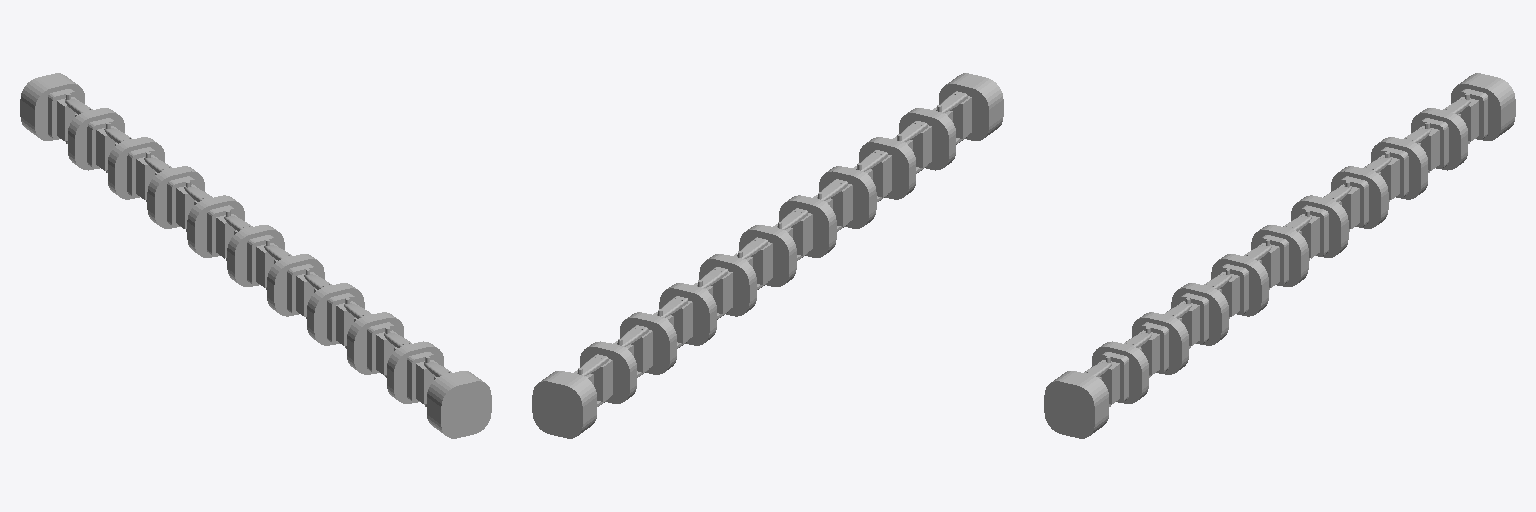
The robot description file, URDF, robot "model8":
<robot
  name="model8">
  <link
    name="base_link">
    <inertial>
      <origin
        xyz="0 0.0196398440124442 0.03"
        rpy="0 0 0" />
      <mass
        value="0.11815581103802" />
      <inertia
        ixx="9.51506167926554E-06"
        ixy="9.66785018978693E-21"
        ixz="2.28782652689305E-13"
        iyy="2.64453255573571E-06"
        iyz="8.47032947254294E-22"
        izz="6.87052912352988E-06" />
    </inertial>
    <visual>
      <origin
        xyz="0 0 0"
        rpy="0 0 0" />
      <geometry>
        <mesh
          filename="package://model8/meshes/base_link.STL" />
      </geometry>
      <material
        name="">
        <color
          rgba="0.752941176470588 0.752941176470588 0.752941176470588 1" />
      </material>
    </visual>
    <collision>
      <origin
        xyz="0 0 0"
        rpy="0 0 0" />
      <geometry>
        <mesh
          filename="package://model8/meshes/base_link.STL" />
      </geometry>
    </collision>
  </link>
  <link
    name="M1">
    <inertial>
      <origin
        xyz="-2.90113099377098E-08 0.0234550125674209 0.0300000000000001"
        rpy="0 0 0" />
      <mass
        value="0.0968618745655004" />
      <inertia
        ixx="1.57938620308465E-05"
        ixy="-3.85313324699336E-11"
        ixz="2.28782649902332E-13"
        iyy="2.64453255590243E-06"
        iyz="-2.3083938980612E-20"
        izz="1.31493294752775E-05" />
    </inertial>
    <visual>
      <origin
        xyz="0 0 0"
        rpy="0 0 0" />
      <geometry>
        <mesh
          filename="package://model8/meshes/M1.STL" />
      </geometry>
      <material
        name="">
        <color
          rgba="0.752941176470588 0.752941176470588 0.752941176470588 1" />
      </material>
    </visual>
    <collision>
      <origin
        xyz="0 0 0"
        rpy="0 0 0" />
      <geometry>
        <mesh
          filename="package://model8/meshes/M1.STL" />
      </geometry>
    </collision>
  </link>
  <joint
    name="J1"
    type="revolute">
    <origin
      xyz="0 0.080147 0"
      rpy="-5.445E-16 -7.3829E-16 3.6937E-16" />
    <parent
      link="base_link" />
    <child
      link="M1" />
    <axis
      xyz="0 0 1" />
    <limit
      lower="-1.571"
      upper="1.571"
      effort="0"
      velocity="0" />
  </joint>
  <link
    name="M2">
    <inertial>
      <origin
        xyz="-2.90113099515876E-08 0.0234550125674209 0.03"
        rpy="0 0 0" />
      <mass
        value="0.0968618745655004" />
      <inertia
        ixx="1.57938620308465E-05"
        ixy="-3.85313324650622E-11"
        ixz="2.28782651787835E-13"
        iyy="2.64453255590242E-06"
        iyz="-4.63773623227938E-20"
        izz="1.31493294752775E-05" />
    </inertial>
    <visual>
      <origin
        xyz="0 0 0"
        rpy="0 0 0" />
      <geometry>
        <mesh
          filename="package://model8/meshes/M2.STL" />
      </geometry>
      <material
        name="">
        <color
          rgba="0.752941176470588 0.752941176470588 0.752941176470588 1" />
      </material>
    </visual>
    <collision>
      <origin
        xyz="0 0 0"
        rpy="0 0 0" />
      <geometry>
        <mesh
          filename="package://model8/meshes/M2.STL" />
      </geometry>
    </collision>
  </link>
  <joint
    name="J2"
    type="revolute">
    <origin
      xyz="0 0.082647 0"
      rpy="0 4.4896E-16 -2.7711E-17" />
    <parent
      link="M1" />
    <child
      link="M2" />
    <axis
      xyz="0 0 1" />
    <limit
      lower="-1.571"
      upper="1.571"
      effort="0"
      velocity="0" />
  </joint>
  <link
    name="M3">
    <inertial>
      <origin
        xyz="-2.90113099515876E-08 0.0234550125674209 0.03"
        rpy="0 0 0" />
      <mass
        value="0.0968618745655004" />
      <inertia
        ixx="1.57938620308465E-05"
        ixy="-3.85313324719697E-11"
        ixz="2.28782654140448E-13"
        iyy="2.64453255590243E-06"
        iyz="-2.12836106898012E-20"
        izz="1.31493294752775E-05" />
    </inertial>
    <visual>
      <origin
        xyz="0 0 0"
        rpy="0 0 0" />
      <geometry>
        <mesh
          filename="package://model8/meshes/M3.STL" />
      </geometry>
      <material
        name="">
        <color
          rgba="0.752941176470588 0.752941176470588 0.752941176470588 1" />
      </material>
    </visual>
    <collision>
      <origin
        xyz="0 0 0"
        rpy="0 0 0" />
      <geometry>
        <mesh
          filename="package://model8/meshes/M3.STL" />
      </geometry>
    </collision>
  </link>
  <joint
    name="J3"
    type="revolute">
    <origin
      xyz="0 0.082647 0"
      rpy="9.0749E-17 -2.4669E-16 -9.0749E-17" />
    <parent
      link="M2" />
    <child
      link="M3" />
    <axis
      xyz="0 0 1" />
    <limit
      lower="-1.571"
      upper="1.571"
      effort="0"
      velocity="0" />
  </joint>
  <link
    name="M4">
    <inertial>
      <origin
        xyz="-2.90113099238321E-08 0.023455012567421 0.03"
        rpy="0 0 0" />
      <mass
        value="0.0968618745655006" />
      <inertia
        ixx="1.57938620308465E-05"
        ixy="-3.853133246773E-11"
        ixz="2.28782654646005E-13"
        iyy="2.64453255590244E-06"
        iyz="-4.250237930801E-22"
        izz="1.31493294752775E-05" />
    </inertial>
    <visual>
      <origin
        xyz="0 0 0"
        rpy="0 0 0" />
      <geometry>
        <mesh
          filename="package://model8/meshes/M4.STL" />
      </geometry>
      <material
        name="">
        <color
          rgba="0.752941176470588 0.752941176470588 0.752941176470588 1" />
      </material>
    </visual>
    <collision>
      <origin
        xyz="0 0 0"
        rpy="0 0 0" />
      <geometry>
        <mesh
          filename="package://model8/meshes/M4.STL" />
      </geometry>
    </collision>
  </link>
  <joint
    name="J4"
    type="revolute">
    <origin
      xyz="0 0.082647 0"
      rpy="9.0749E-17 -2.4669E-16 -9.0749E-17" />
    <parent
      link="M3" />
    <child
      link="M4" />
    <axis
      xyz="0 0 1" />
    <limit
      lower="-1.571"
      upper="1.571"
      effort="0"
      velocity="0" />
  </joint>
  <link
    name="M5">
    <inertial>
      <origin
        xyz="-2.90113098960765E-08 0.023455012567421 0.03"
        rpy="0 0 0" />
      <mass
        value="0.0968618745655006" />
      <inertia
        ixx="1.57938620308465E-05"
        ixy="-3.85313324751812E-11"
        ixz="2.28782651866568E-13"
        iyy="2.64453255590243E-06"
        iyz="-1.23276250185249E-21"
        izz="1.31493294752775E-05" />
    </inertial>
    <visual>
      <origin
        xyz="0 0 0"
        rpy="0 0 0" />
      <geometry>
        <mesh
          filename="package://model8/meshes/M5.STL" />
      </geometry>
      <material
        name="">
        <color
          rgba="0.752941176470588 0.752941176470588 0.752941176470588 1" />
      </material>
    </visual>
    <collision>
      <origin
        xyz="0 0 0"
        rpy="0 0 0" />
      <geometry>
        <mesh
          filename="package://model8/meshes/M5.STL" />
      </geometry>
    </collision>
  </link>
  <joint
    name="J5"
    type="revolute">
    <origin
      xyz="0 0.082647 0"
      rpy="8.4372E-17 -3.5974E-16 8.4372E-17" />
    <parent
      link="M4" />
    <child
      link="M5" />
    <axis
      xyz="0 0 1" />
    <limit
      lower="-1.571"
      upper="1.571"
      effort="0"
      velocity="0" />
  </joint>
  <link
    name="M6">
    <inertial>
      <origin
        xyz="-2.90113099238321E-08 0.0234550125674209 0.0299999999999998"
        rpy="0 0 0" />
      <mass
        value="0.0968618745655006" />
      <inertia
        ixx="1.57938620308465E-05"
        ixy="-3.85313324809194E-11"
        ixz="2.28782653052666E-13"
        iyy="2.64453255590243E-06"
        iyz="-3.09181815818711E-20"
        izz="1.31493294752776E-05" />
    </inertial>
    <visual>
      <origin
        xyz="0 0 0"
        rpy="0 0 0" />
      <geometry>
        <mesh
          filename="package://model8/meshes/M6.STL" />
      </geometry>
      <material
        name="">
        <color
          rgba="0.752941176470588 0.752941176470588 0.752941176470588 1" />
      </material>
    </visual>
    <collision>
      <origin
        xyz="0 0 0"
        rpy="0 0 0" />
      <geometry>
        <mesh
          filename="package://model8/meshes/M6.STL" />
      </geometry>
    </collision>
  </link>
  <joint
    name="J6"
    type="revolute">
    <origin
      xyz="0 0.082647 0"
      rpy="-8.4372E-17 -3.7505E-16 -8.4372E-17" />
    <parent
      link="M5" />
    <child
      link="M6" />
    <axis
      xyz="0 0 1" />
    <limit
      lower="-1.571"
      upper="1.571"
      effort="0"
      velocity="0" />
  </joint>
  <link
    name="M7">
    <inertial>
      <origin
        xyz="-2.90113099238321E-08 0.0234550125674209 0.0299999999999998"
        rpy="0 0 0" />
      <mass
        value="0.0968618745655006" />
      <inertia
        ixx="1.57938620308466E-05"
        ixy="-3.85313324646932E-11"
        ixz="2.28782652934824E-13"
        iyy="2.64453255590243E-06"
        iyz="-1.98004468484315E-20"
        izz="1.31493294752776E-05" />
    </inertial>
    <visual>
      <origin
        xyz="0 0 0"
        rpy="0 0 0" />
      <geometry>
        <mesh
          filename="package://model8/meshes/M7.STL" />
      </geometry>
      <material
        name="">
        <color
          rgba="0.752941176470588 0.752941176470588 0.752941176470588 1" />
      </material>
    </visual>
    <collision>
      <origin
        xyz="0 0 0"
        rpy="0 0 0" />
      <geometry>
        <mesh
          filename="package://model8/meshes/M7.STL" />
      </geometry>
    </collision>
  </link>
  <joint
    name="J7"
    type="revolute">
    <origin
      xyz="0 0.082647 0"
      rpy="9.0749E-17 -9.4058E-16 -6.3039E-17" />
    <parent
      link="M6" />
    <child
      link="M7" />
    <axis
      xyz="0 0 1" />
    <limit
      lower="-1.571"
      upper="1.571"
      effort="0"
      velocity="0" />
  </joint>
  <link
    name="M8">
    <inertial>
      <origin
        xyz="-2.90113098960765E-08 0.0234550125674209 0.0299999999999998"
        rpy="0 0 0" />
      <mass
        value="0.0968618745655005" />
      <inertia
        ixx="1.57938620308465E-05"
        ixy="-3.85313324738181E-11"
        ixz="2.28782652813436E-13"
        iyy="2.64453255590242E-06"
        iyz="-2.3082325678601E-20"
        izz="1.31493294752775E-05" />
    </inertial>
    <visual>
      <origin
        xyz="0 0 0"
        rpy="0 0 0" />
      <geometry>
        <mesh
          filename="package://model8/meshes/M8.STL" />
      </geometry>
      <material
        name="">
        <color
          rgba="0.752941176470588 0.752941176470588 0.752941176470588 1" />
      </material>
    </visual>
    <collision>
      <origin
        xyz="0 0 0"
        rpy="0 0 0" />
      <geometry>
        <mesh
          filename="package://model8/meshes/M8.STL" />
      </geometry>
    </collision>
  </link>
  <joint
    name="J8"
    type="revolute">
    <origin
      xyz="0 0.082647 0"
      rpy="9.0749E-17 4.472E-16 -1.1846E-16" />
    <parent
      link="M7" />
    <child
      link="M8" />
    <axis
      xyz="0 0 1" />
    <limit
      lower="-1.571"
      upper="1.571"
      effort="0"
      velocity="0" />
  </joint>
  <link
    name="M9">
    <inertial>
      <origin
        xyz="-2.90113098821987E-08 0.023455012567423 0.0300000000000005"
        rpy="0 0 0" />
      <mass
        value="0.0968618745655031" />
      <inertia
        ixx="1.57938620308586E-05"
        ixy="-3.85313325695201E-11"
        ixz="2.28782587419749E-13"
        iyy="2.64453255590371E-06"
        iyz="-4.62194143310683E-18"
        izz="1.31493294752883E-05" />
    </inertial>
    <visual>
      <origin
        xyz="0 0 0"
        rpy="0 0 0" />
      <geometry>
        <mesh
          filename="package://model8/meshes/M9.STL" />
      </geometry>
      <material
        name="">
        <color
          rgba="0.752941176470588 0.752941176470588 0.752941176470588 1" />
      </material>
    </visual>
    <collision>
      <origin
        xyz="0 0 0"
        rpy="0 0 0" />
      <geometry>
        <mesh
          filename="package://model8/meshes/M9.STL" />
      </geometry>
    </collision>
  </link>
  <joint
    name="J9"
    type="revolute">
    <origin
      xyz="0 0.082647 0"
      rpy="9.0749E-17 -2.4669E-16 -9.0749E-17" />
    <parent
      link="M8" />
    <child
      link="M9" />
    <axis
      xyz="0 0 1" />
    <limit
      lower="-1.571"
      upper="1.571"
      effort="0"
      velocity="0" />
  </joint>
  <link
    name="Tail">
    <inertial>
      <origin
        xyz="2.19220222252847E-08 0.0264689131835962 0.0299999999999998"
        rpy="0 0 0" />
      <mass
        value="0.128185704647389" />
      <inertia
        ixx="1.18366985416202E-05"
        ixy="4.70006640450819E-11"
        ixz="6.1922860683803E-31"
        iyy="1.86628257272174E-16"
        iyz="-1.55948625896089E-25"
        izz="1.18366985418068E-05" />
    </inertial>
    <visual>
      <origin
        xyz="0 0 0"
        rpy="0 0 0" />
      <geometry>
        <mesh
          filename="package://model8/meshes/Tail.STL" />
      </geometry>
      <material
        name="">
        <color
          rgba="0.752941176470588 0.752941176470588 0.752941176470588 1" />
      </material>
    </visual>
    <collision>
      <origin
        xyz="0 0 0"
        rpy="0 0 0" />
      <geometry>
        <mesh
          filename="package://model8/meshes/Tail.STL" />
      </geometry>
    </collision>
  </link>
  <joint
    name="J10"
    type="revolute">
    <origin
      xyz="0 0.082647 0"
      rpy="9.0749E-17 -3.6655E-16 1.1208E-16" />
    <parent
      link="M9" />
    <child
      link="Tail" />
    <axis
      xyz="0 0 1" />
    <limit
      lower="-1.571"
      upper="1.571"
      effort="0"
      velocity="0" />
  </joint>
</robot>

--- Facts derived from the render (not from the file) ---
3 views of the same robot in one strip: view 1: azimuth 30°, elevation 25°; view 2: azimuth 150°, elevation 25°; view 3: azimuth 330°, elevation 25° (orthographic).
Robot: model8 — 11 links, 10 joints (10 revolute); root link base_link; default pose: all joints at 0.
Links seen in each view (by area): view 1: base_link, Tail, M7, M3, M6, M2, M4, M1, M5, M9, M8; view 2: Tail, base_link, M3, M6, M4, M8, M5, M7, M1, M2, M9; view 3: base_link, Tail, M7, M3, M2, M6, M4, M5, M1, M9, M8.
Link boxes in pixels (bbox=[...]): base_link: bbox=[424, 362, 491, 438]; Tail: bbox=[20, 73, 84, 143]; M7: bbox=[144, 157, 204, 231]; M3: bbox=[304, 274, 364, 348]; M6: bbox=[184, 186, 244, 260]; M2: bbox=[344, 303, 403, 377]; M4: bbox=[264, 245, 324, 318]; M1: bbox=[384, 332, 443, 406]; M5: bbox=[224, 216, 284, 289]; M9: bbox=[65, 99, 124, 172]; M8: bbox=[104, 128, 164, 201]; Tail: bbox=[532, 368, 596, 438]; base_link: bbox=[936, 73, 1003, 144]; M3: bbox=[817, 163, 876, 231]; M6: bbox=[697, 251, 756, 319]; M4: bbox=[777, 192, 836, 260]; M8: bbox=[617, 309, 676, 377]; M5: bbox=[737, 222, 796, 289]; M7: bbox=[657, 280, 716, 348]; M1: bbox=[899, 105, 955, 173]; M2: bbox=[856, 134, 915, 201]; M9: bbox=[577, 339, 636, 406]; base_link: bbox=[1044, 362, 1111, 438]; Tail: bbox=[1451, 73, 1515, 143]; M7: bbox=[1331, 157, 1391, 231]; M3: bbox=[1171, 274, 1231, 348]; M2: bbox=[1132, 303, 1191, 377]; M6: bbox=[1291, 186, 1351, 260]; M4: bbox=[1211, 245, 1271, 318]; M5: bbox=[1251, 216, 1311, 289]; M1: bbox=[1092, 332, 1151, 406]; M9: bbox=[1411, 99, 1470, 172]; M8: bbox=[1371, 128, 1431, 201].
Size in the robot's own frame: 0.06 by 0.8715 by 0.06 metres.
Meshes: 11 distinct files referenced, 11 mesh visuals loaded (11 binary STL).